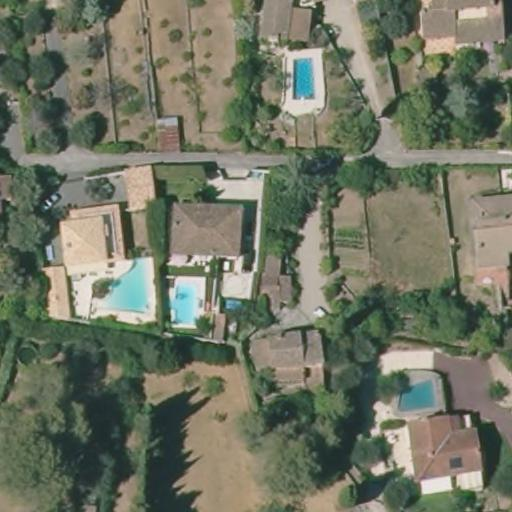pool: (86, 256, 161, 323), (282, 49, 319, 109), (165, 278, 204, 330), (394, 371, 441, 414)
